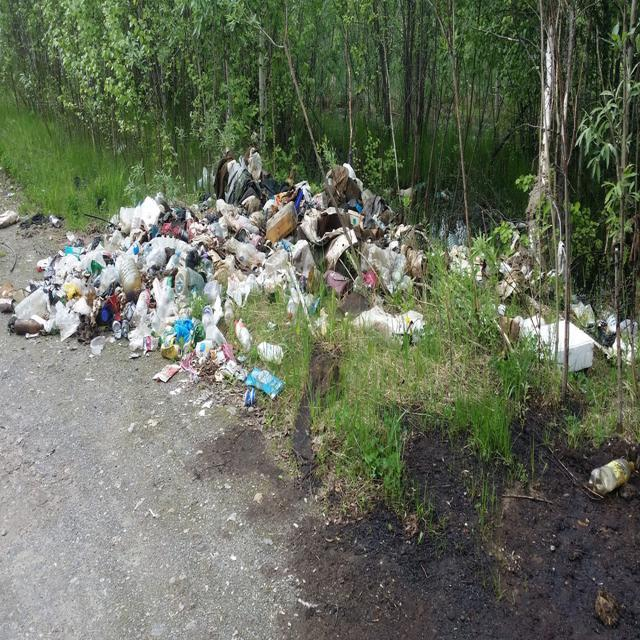lixeira: (256, 163, 429, 334), (112, 198, 200, 356), (202, 155, 255, 368), (54, 240, 110, 336), (0, 288, 50, 336), (590, 458, 636, 493), (0, 209, 64, 229), (248, 369, 284, 398), (256, 342, 285, 364), (154, 364, 180, 380)
